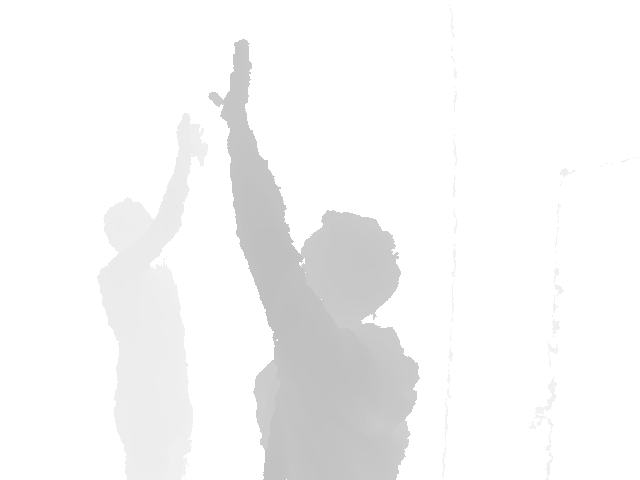hand: (209, 39, 252, 121), (175, 112, 207, 167)
head: (289, 210, 402, 339), (100, 197, 165, 259)
person: (209, 39, 422, 480), (95, 111, 208, 480)
